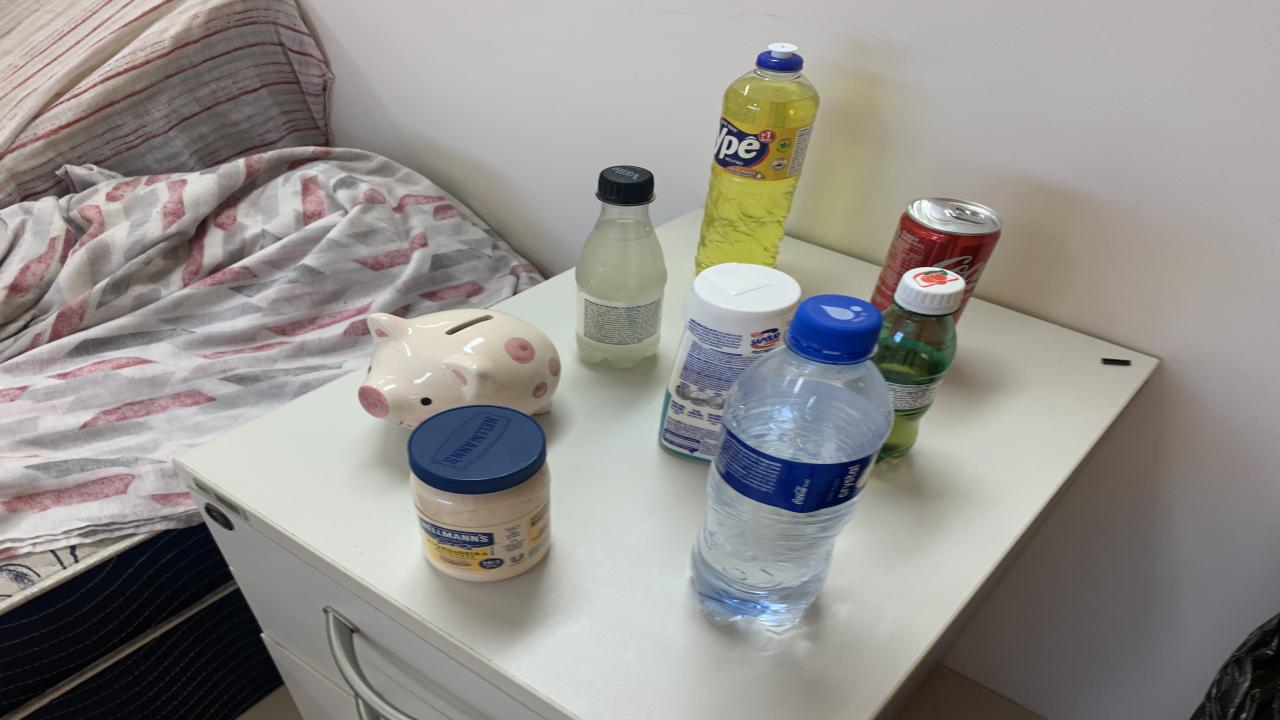Cleaner-Cleanup_Items: (660, 262, 802, 461), (870, 197, 1002, 311)
Coke-Drinks: (870, 197, 1002, 311)
Detergent-Cleanup_Items: (695, 43, 820, 272)
Guarana-Drinks: (872, 266, 965, 459)
Mayonnaise-Pantry_Items: (408, 405, 550, 581)
Pig_Safe-Miscellaneous: (358, 309, 560, 428)
Soda-Drinks: (575, 167, 668, 368)
Water_Bottle-Drinks: (692, 294, 892, 630)
